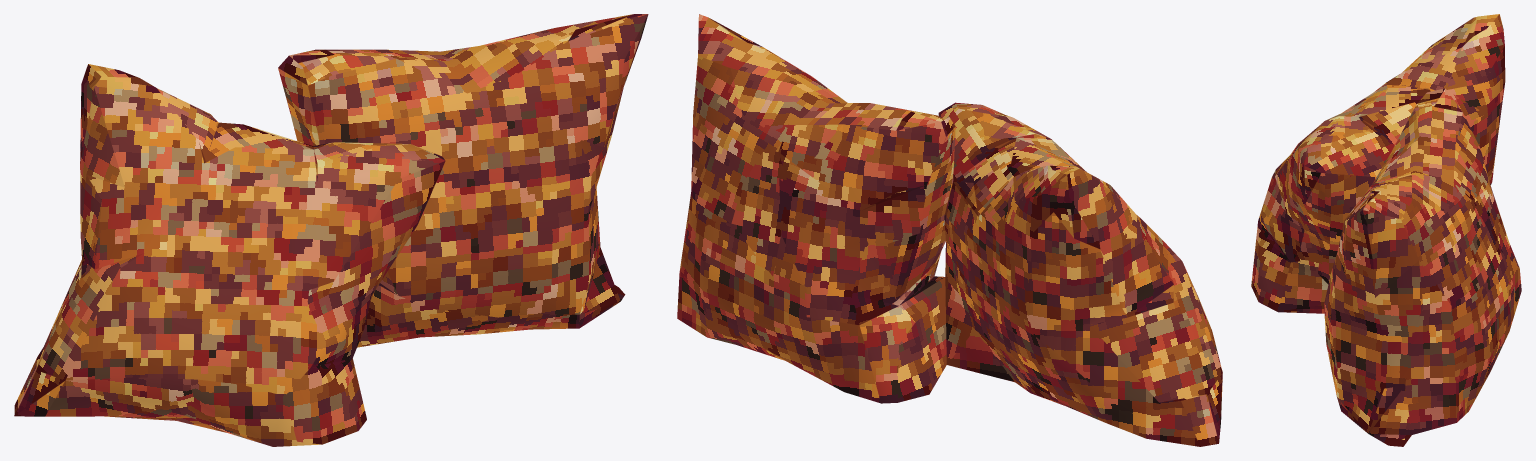
File: throw_pillows_01.glb
3 views of the same model, side by side, from view 1: azimuth 30°, elevation 25°; view 2: azimuth 150°, elevation 25°; view 3: azimuth 270°, elevation 25° (orthographic). The views are drawn at different scales.
Visible parts, largest first — view 1: mesh; view 2: mesh; view 3: mesh.
Boxes of the visible parts, x1,y1,x2,y2 form: mesh: [14, 14, 648, 446]; mesh: [677, 14, 1222, 446]; mesh: [1251, 14, 1521, 446].
Bounding box in the file's own units: 0.9363 × 0.4502 × 0.4482.
1 material, 1 textured.
